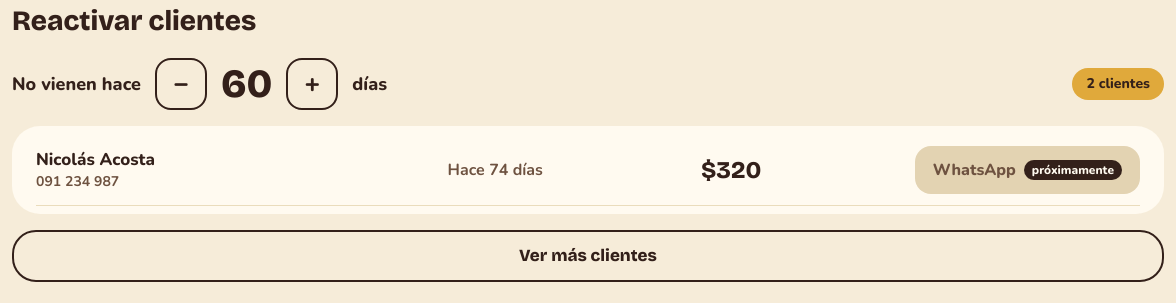
Scenario: Reactivar › pagina con 'Ver más clientes' y el contador es el total, no lo cargado
expect the text "2 clientes" is shown: met, box [1072,68,1164,100]
Click the button "Ver más clientes": (588, 256) [12,230,1164,282]
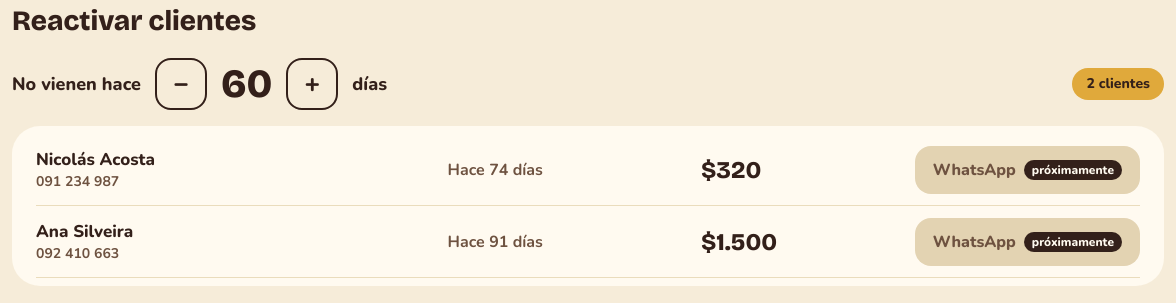
expect the text "2 clientes" is shown: met, box [1072,68,1164,100]
expect the text "Ana Silveira" is shown: met, box [36,220,133,242]
expect the button "Ver más clientes" is gone: met
